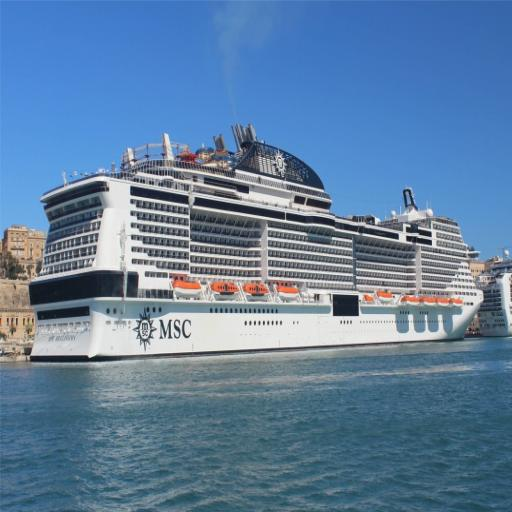cruises: (27, 120, 489, 371)
